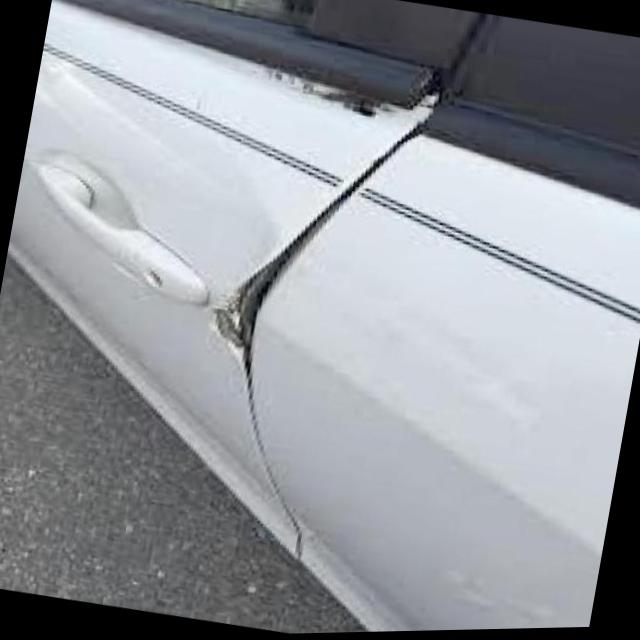Car-Damage: (184, 88, 424, 434), (262, 50, 422, 136)
